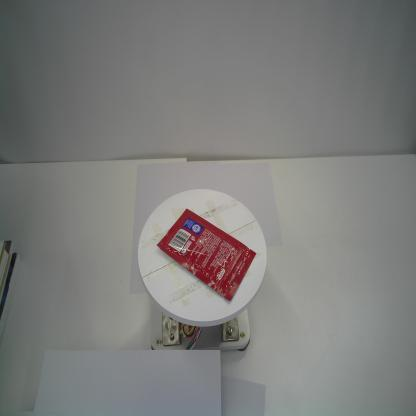Seasoner: (156, 208, 257, 303)
